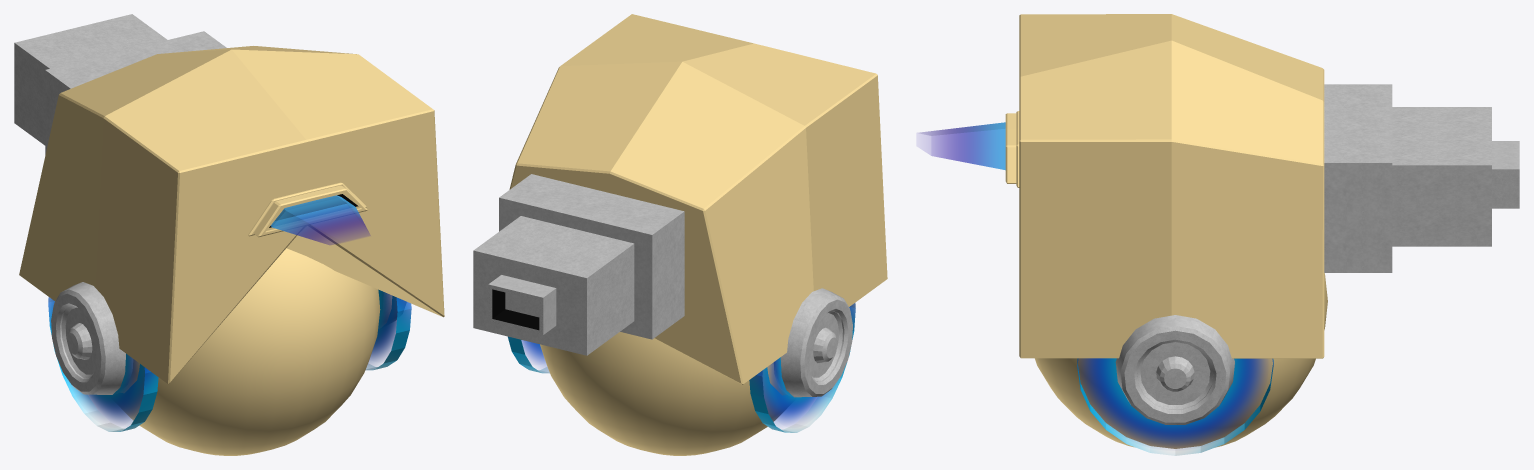
File: gold-tank.glb
3 renders of one model, left to right at view 1: azimuth 30°, elevation 25°; view 2: azimuth 150°, elevation 25°; view 3: azimuth 270°, elevation 25°, orthographic. The views are drawn at different scales.
Parts seen in each view (by area): view 1: Body, Ball, Cube.002, Cylinder, magnets, Cube.001, thruster; view 2: Body, Ball, Cube.002, Cube.001, Cylinder, magnets, Cube.003; view 3: Body, Cube.002, Cube.001, Cylinder, Ball, magnets, thruster, Cube.003.
Boxes of the visible parts, box(x1,y1,x2,y2) form: Body: box(19, 46, 444, 384); Ball: box(121, 248, 380, 455); Cube.002: box(14, 14, 167, 145); Cylinder: box(51, 282, 406, 394); magnets: box(48, 289, 411, 431); Cube.001: box(45, 31, 226, 154); thruster: box(271, 195, 370, 244); Body: box(509, 14, 887, 384); Ball: box(540, 332, 786, 455); Cube.002: box(473, 216, 634, 355); Cube.001: box(499, 174, 684, 339); Cylinder: box(773, 288, 852, 397); magnets: box(508, 303, 855, 432); Cube.003: box(488, 275, 556, 334); Body: box(1005, 14, 1324, 358); Cube.002: box(1392, 107, 1491, 246); Cube.001: box(1324, 84, 1392, 272); Cylinder: box(1115, 315, 1234, 424); Ball: box(1035, 273, 1327, 448); magnets: box(1077, 358, 1273, 455); thruster: box(918, 122, 1005, 170); Cube.003: box(1492, 141, 1519, 208).
Size of the model in its own units: 2.41 by 2.89 by 3.95.
8 materials, 6 textured.
